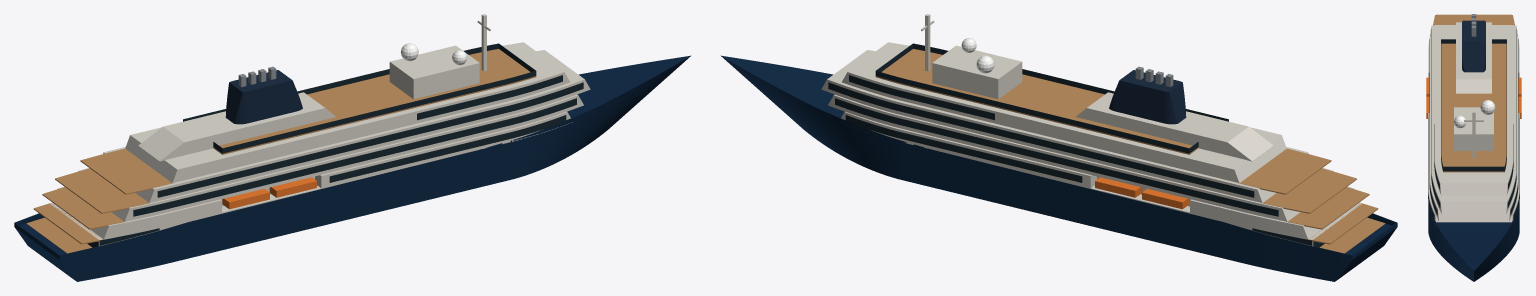
File: aurora-tide-massing.glb
3 renders of one model, left to right at view 1: azimuth 30°, elevation 25°; view 2: azimuth 150°, elevation 25°; view 3: azimuth 270°, elevation 25°, orthographic. The views are drawn at different scales.
Visible parts, largest first — view 1: hull, deck8, sunDeck9, deck7, funnelCasingBase, deck6, deck5, glazing6S, radomeMastHouse, glazing7S, funnel, terraceD8 (+11 smaller); view 2: hull, deck8, sunDeck9, deck7, funnelCasingBase, deck6, deck5, glazing6P, radomeMastHouse, glazing7P, funnel, terraceD8 (+11 smaller); view 3: sunDeck9, deck8, hull, deck7, radomeMastHouse, deck6, funnelCasingBase, funnel, deck5, terraceD8, windscreen9Fwd, glazing7P (+17 smaller).
Part boxes in pixels (x1,y1,x2,y2): hull: (15,55,690,281); deck8: (125,42,569,183); sunDeck9: (213,49,536,154); deck7: (103,50,590,202); funnelCasingBase: (138,92,335,161); deck6: (78,94,583,221); deck5: (57,111,572,239); glazing6S: (133,98,576,216); radomeMastHouse: (389,45,479,99); glazing7S: (157,82,583,197); funnel: (225,70,302,124); terraceD8: (80,148,173,194); hull: (721,55,1396,281); deck8: (842,42,1286,183); sunDeck9: (875,49,1198,154); deck7: (821,50,1308,202); funnelCasingBase: (1076,92,1273,161); deck6: (828,94,1333,221); deck5: (841,111,1354,239); glazing6P: (835,98,1278,216); radomeMastHouse: (932,45,1022,99); glazing7P: (828,82,1254,197); funnel: (1109,70,1186,124); terraceD8: (1238,148,1331,194); sunDeck9: (1441,43,1506,172); deck8: (1434,25,1513,195); hull: (1428,202,1519,281); deck7: (1431,25,1516,214); radomeMastHouse: (1454,107,1493,150); deck6: (1430,26,1517,221); funnelCasingBase: (1456,22,1491,93); funnel: (1462,20,1485,72); deck5: (1428,34,1519,225); terraceD8: (1435,14,1512,24); windscreen9Fwd: (1443,166,1504,171); glazing7P: (1507,29,1516,208).
Bounding box in the file's own units: 158 × 33.3 × 24.
